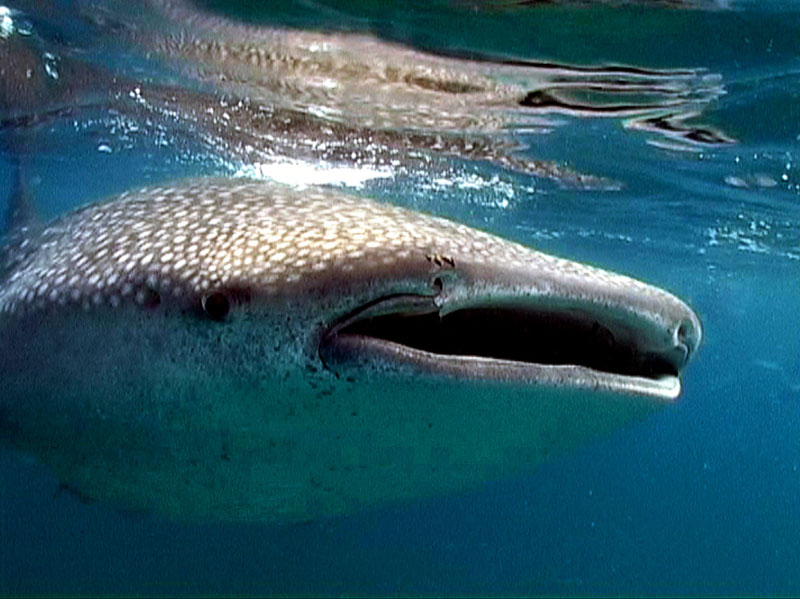Rhincodon_typusw: (1, 167, 702, 553)
